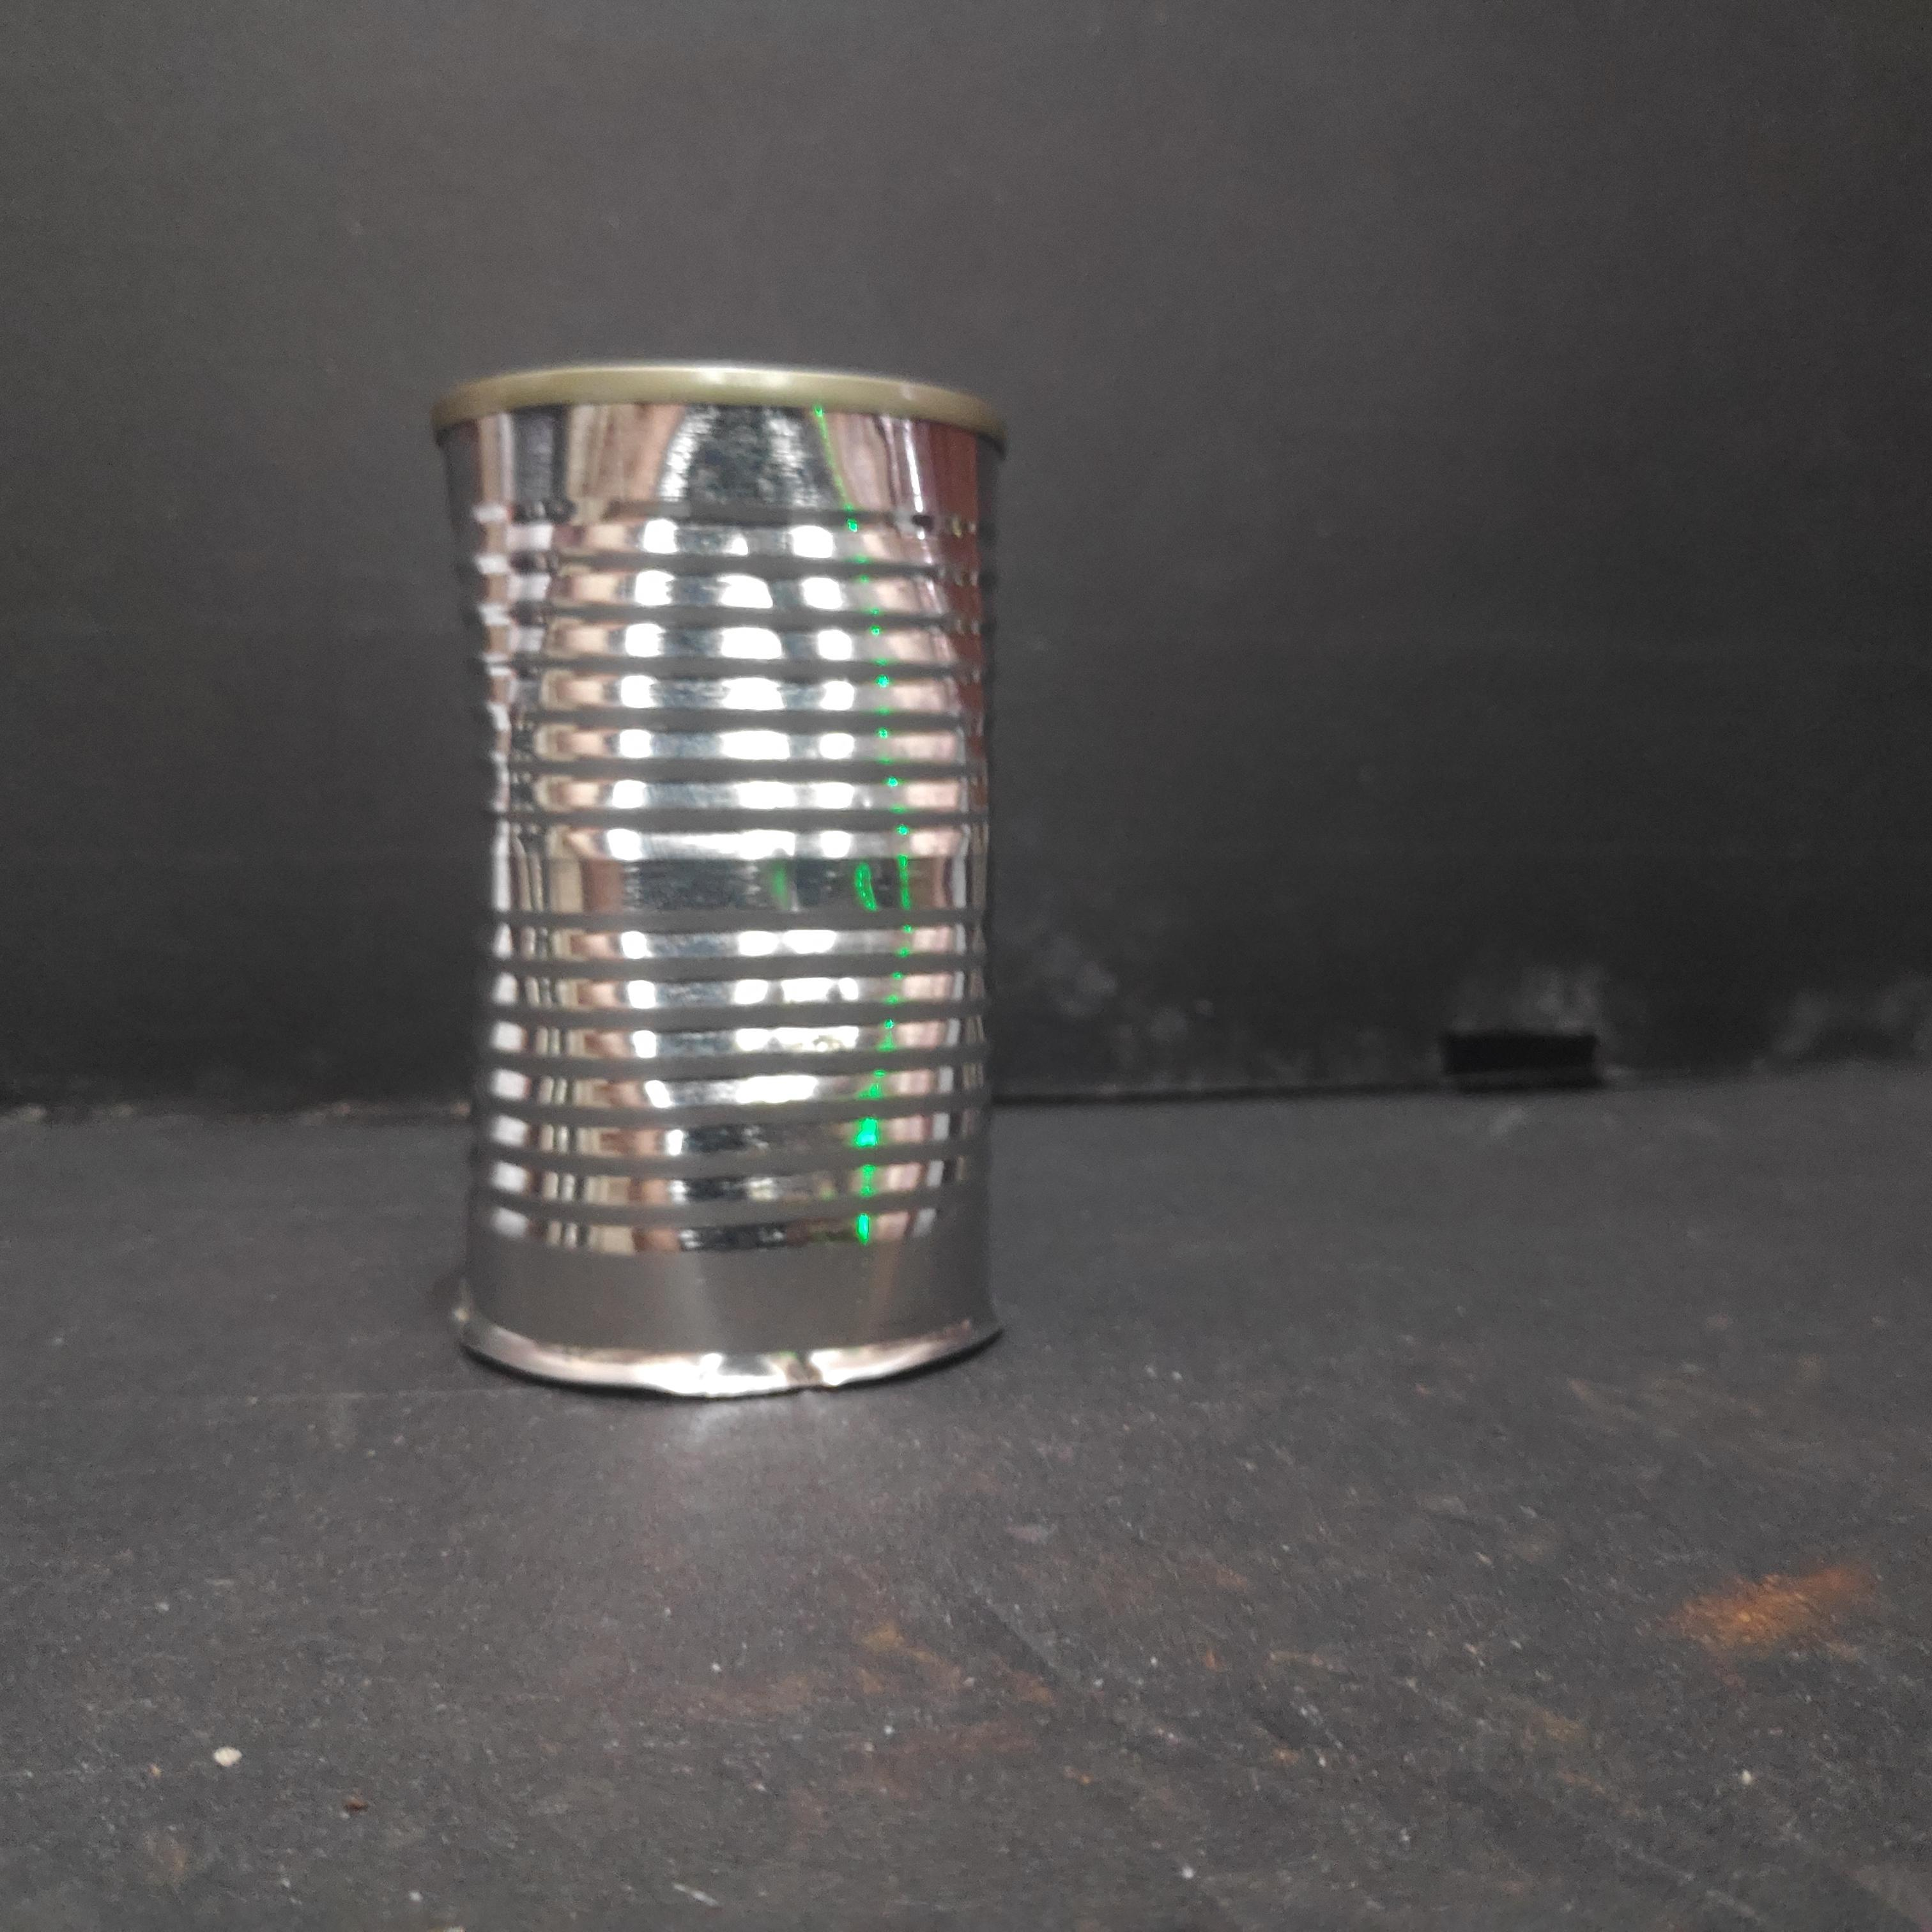Minor Defect: (420, 349, 1023, 1422)
